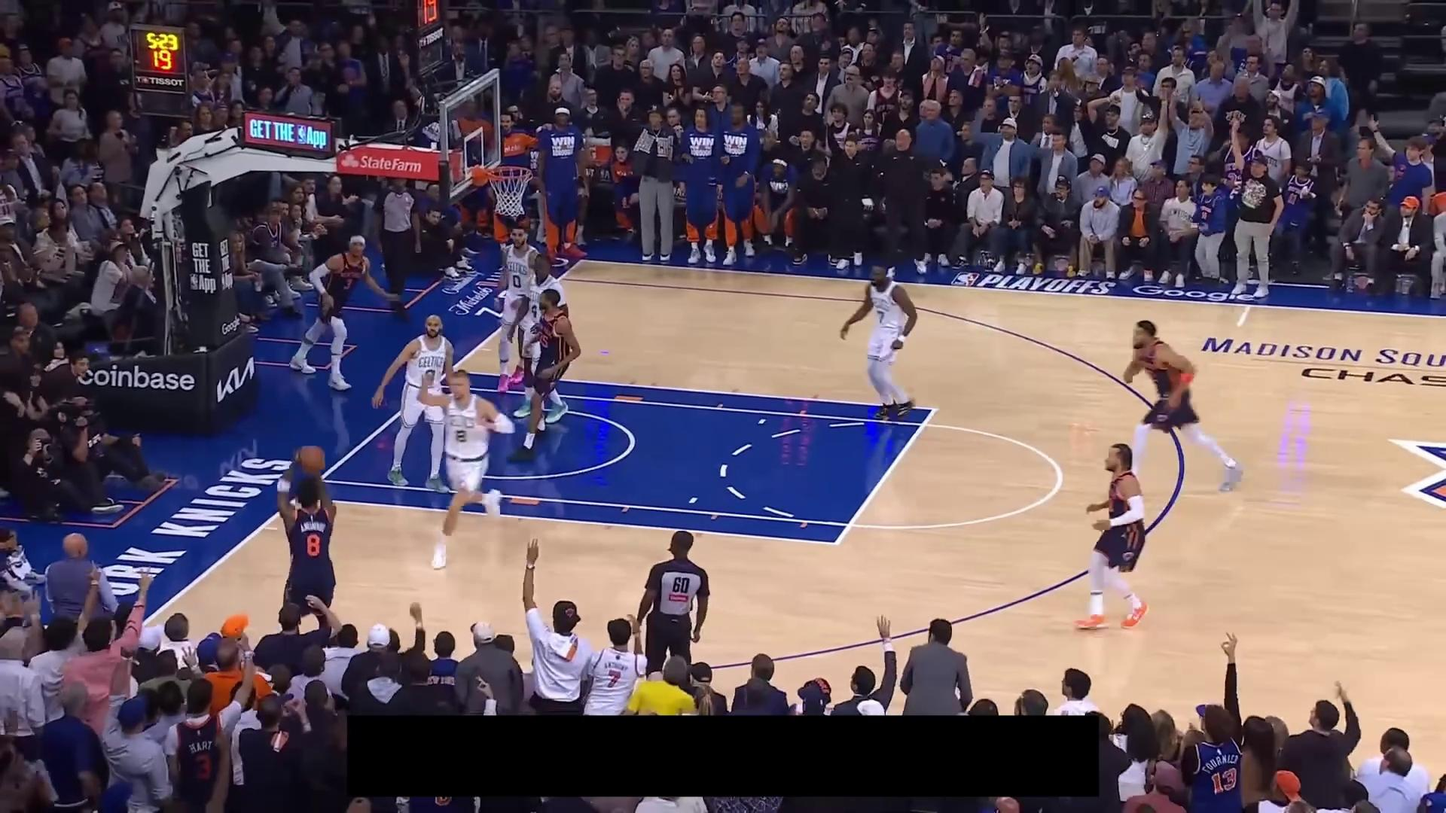ball: (295, 440, 330, 479)
number: (456, 428, 468, 444), (538, 331, 548, 348), (343, 277, 353, 290), (513, 274, 522, 288), (531, 304, 539, 318), (877, 309, 885, 323)
player: (1124, 318, 1249, 495), (416, 368, 514, 569), (287, 229, 403, 391), (373, 307, 460, 494), (1071, 439, 1154, 634), (506, 288, 585, 465), (839, 257, 921, 420), (511, 251, 574, 426), (488, 223, 543, 395)
player-jump-shot: (273, 439, 341, 630)
referee: (630, 530, 715, 674), (367, 176, 425, 316)
rim: (487, 161, 532, 185)
